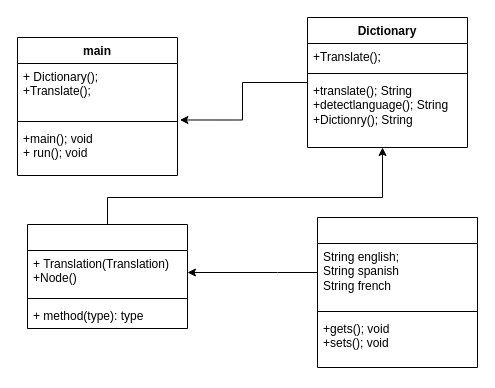
The diagram is 495 pixels wide and 388 high, and some of its shapes have lost their labels. The shapes that lost their labels are listed below. From the top down, each one's box as (x1, y1, x2, y2) in pixels, then its label:
(26, 224, 188, 328): BinarySearchTree
(316, 216, 478, 368): Translation
